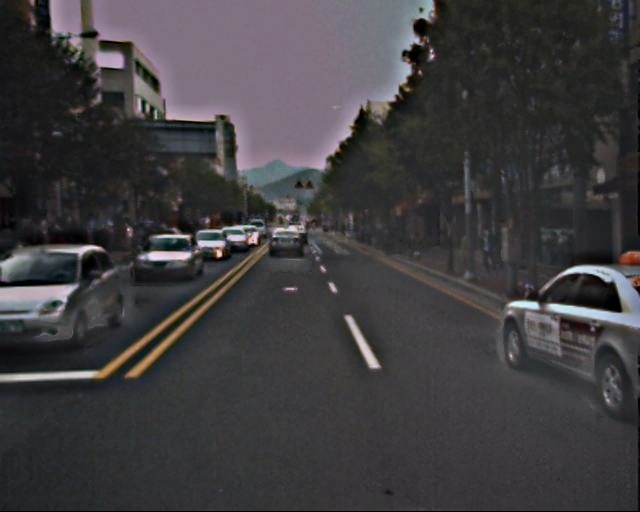person: (478, 223, 499, 273), (548, 231, 562, 266), (534, 229, 547, 260)
